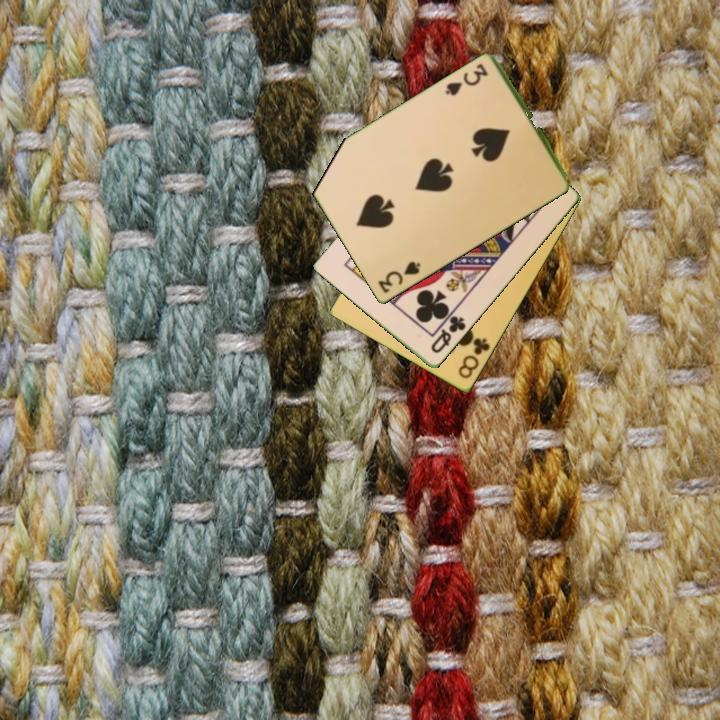3s: (442, 60, 491, 99), (374, 258, 423, 296)
8c: (455, 334, 493, 382)
Qc: (427, 313, 469, 357)
